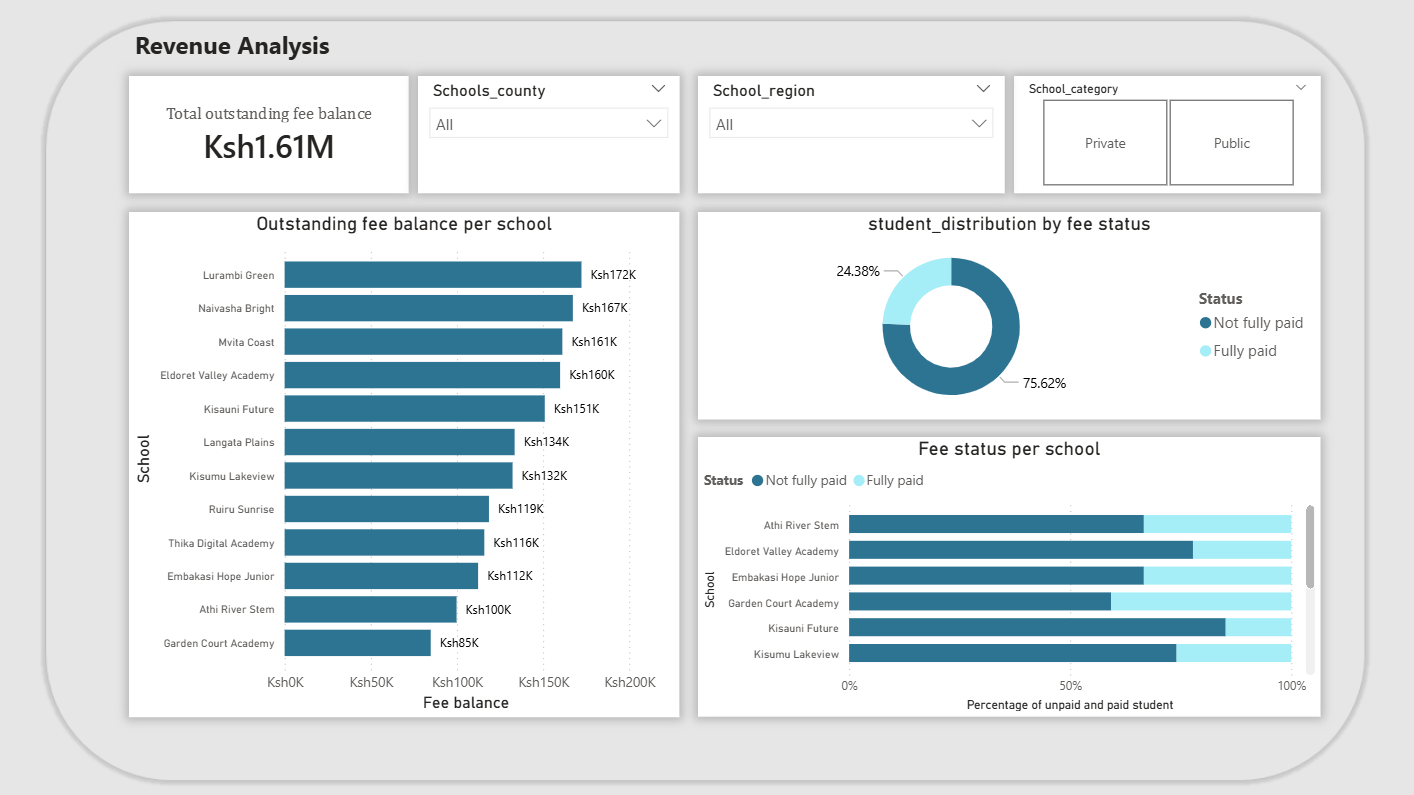

Layout of this report page (visuals, bound fields, positions):
{"tool":"powerbi","page":{"name":"Revenue and Payment Analysis ","canvas":[1280,720],"ordinal":3},"visuals":[{"type":"cardVisual","fields":{"Data":["Sum(Fact_performance.fee_balance_kes)"]},"box":[136,72,248,104],"z":0},{"type":"clusteredBarChart","title":"Outstanding fee balance per school","fields":{"Category":["Dim_school.cleaned_school_name"],"Y":["Sum(Fact_performance.fee_balance_kes)"]},"box":[136,192,488,448],"z":1000},{"type":"donutChart","title":"student_distribution by fee status","fields":{"Category":["Fact_performance.Fee_status"],"Y":["CountNonNull(Dim_student.student_id)"]},"box":[640,192,552,184],"z":2000},{"type":"hundredPercentStackedBarChart","title":"Fee status per school","fields":{"Category":["Dim_school.cleaned_school_name"],"Series":["Fact_performance.Fee_status"],"Y":["CountNonNull(Fact_performance.Fee_status)"]},"box":[640,392,552,248],"z":3000},{"type":"slicer","fields":{"Values":["Dim_school.Cleaned_school_county"]},"box":[392,72,232,104],"z":4000},{"type":"slicer","fields":{"Values":["Dim_school.cleaned_school_type"]},"box":[920,72,272,104],"z":5000},{"type":"slicer","fields":{"Values":["Dim_school.Cleaned_school_region"]},"box":[640,72,272,104],"z":6000},{"type":"textbox","box":[136,24,344,40],"z":7000}]}

Visuals, with their boxes in screenshot pixels (x1, y1, x2, y2), scaled from the page's 1280x720 canvas onto the 1414x795 screenshot:
cardVisual - Sum(Fact_performance.fee_balance_kes): (x1=150, y1=80, x2=424, y2=194)
"Outstanding fee balance per school" clusteredBarChart: (x1=150, y1=212, x2=689, y2=707)
"student_distribution by fee status" donutChart: (x1=707, y1=212, x2=1317, y2=415)
"Fee status per school" hundredPercentStackedBarChart: (x1=707, y1=433, x2=1317, y2=707)
slicer - Dim_school.Cleaned_school_county: (x1=433, y1=80, x2=689, y2=194)
slicer - Dim_school.cleaned_school_type: (x1=1016, y1=80, x2=1317, y2=194)
slicer - Dim_school.Cleaned_school_region: (x1=707, y1=80, x2=1007, y2=194)
textbox: (x1=150, y1=26, x2=530, y2=71)
